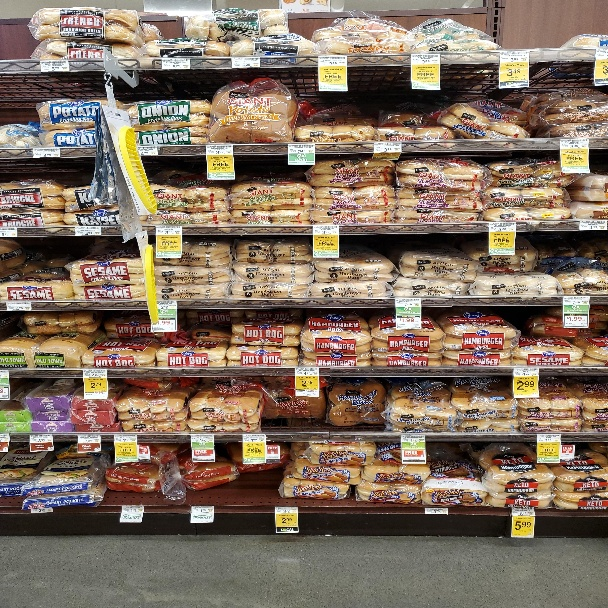All PRICE TAGS: (318, 54, 348, 66), (500, 50, 530, 62), (161, 58, 191, 69), (231, 57, 261, 68), (411, 53, 441, 64), (32, 147, 61, 158), (39, 61, 69, 71), (205, 144, 233, 154), (560, 138, 588, 148), (579, 220, 606, 230), (288, 143, 314, 153), (374, 143, 402, 152), (74, 226, 101, 235), (155, 226, 182, 235), (563, 296, 590, 305), (82, 368, 108, 377), (313, 225, 339, 234), (6, 301, 31, 310), (29, 434, 53, 443), (191, 434, 215, 443), (489, 223, 515, 231), (395, 298, 421, 306), (512, 507, 534, 516), (77, 435, 101, 443), (295, 367, 319, 375), (514, 368, 538, 376), (401, 435, 425, 443), (536, 434, 560, 442), (425, 506, 449, 514), (156, 300, 177, 309), (114, 434, 137, 442), (243, 434, 266, 442), (122, 505, 145, 513), (275, 505, 298, 513), (140, 146, 158, 155), (191, 506, 213, 513), (0, 228, 17, 237), (30, 508, 54, 512)
